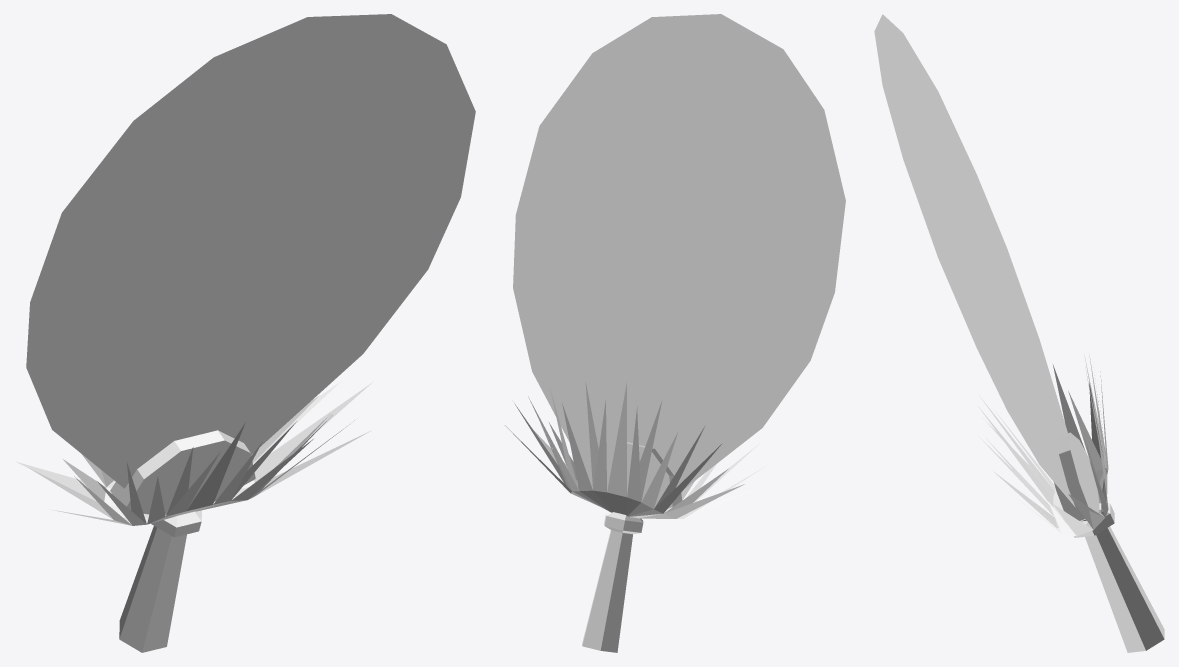
Rendered from static.ico.obj.
The picture shows the model from 3 angles, left to right: view 1: azimuth 30°, elevation 25°; view 2: azimuth 150°, elevation 25°; view 3: azimuth 270°, elevation 25°; orthographic projection. The views are drawn at different scales.
Size of the model in its own units: 2.78 by 4.59 by 1.96.
